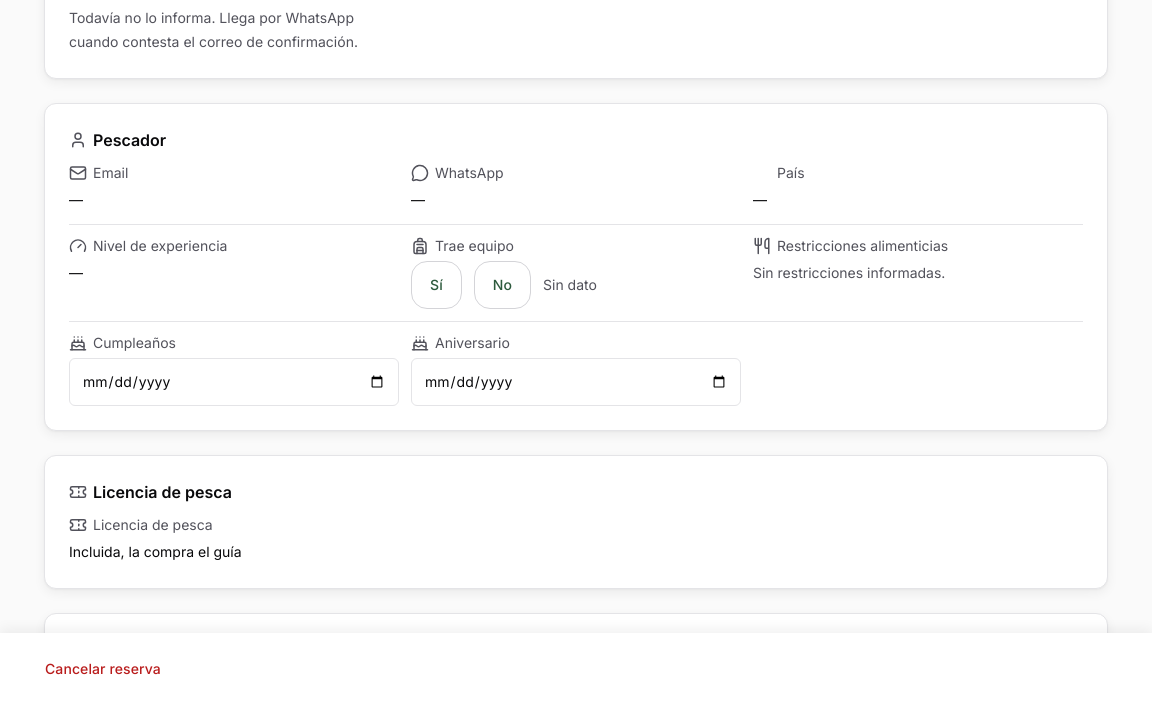
Test case: Ficha del pescador: guardar › con eco del servidor: lo da por guardado
(page scrolled)
Click the button "Sí": (436, 285) [411,261,462,309]
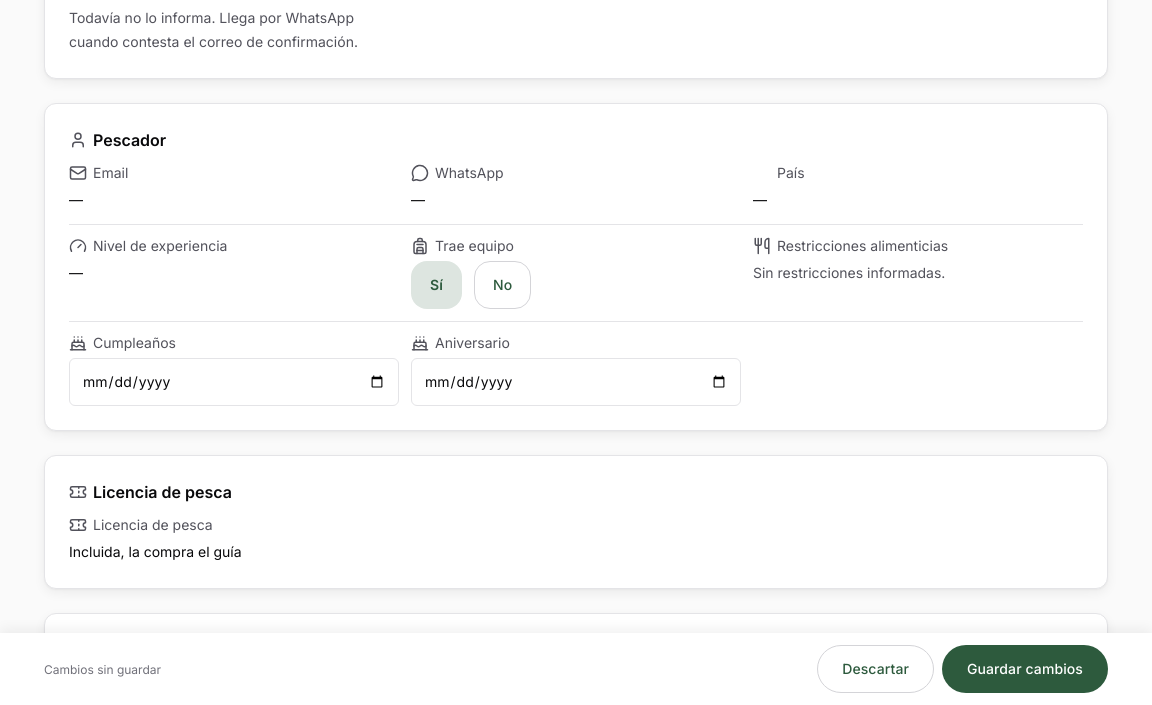
Click the button "Guardar cambios": (1025, 669) [942,645,1108,693]
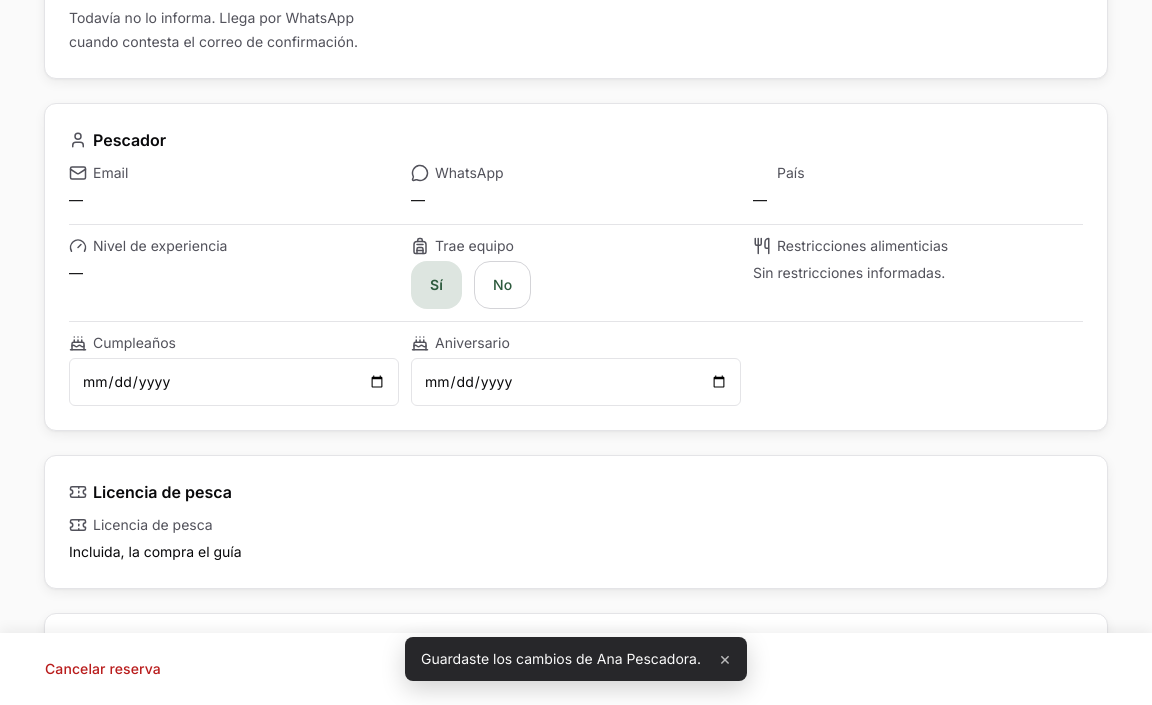
expect the text "Guardaste los cambios de Ana Pescadora." is shown: met, box [421,650,701,667]
